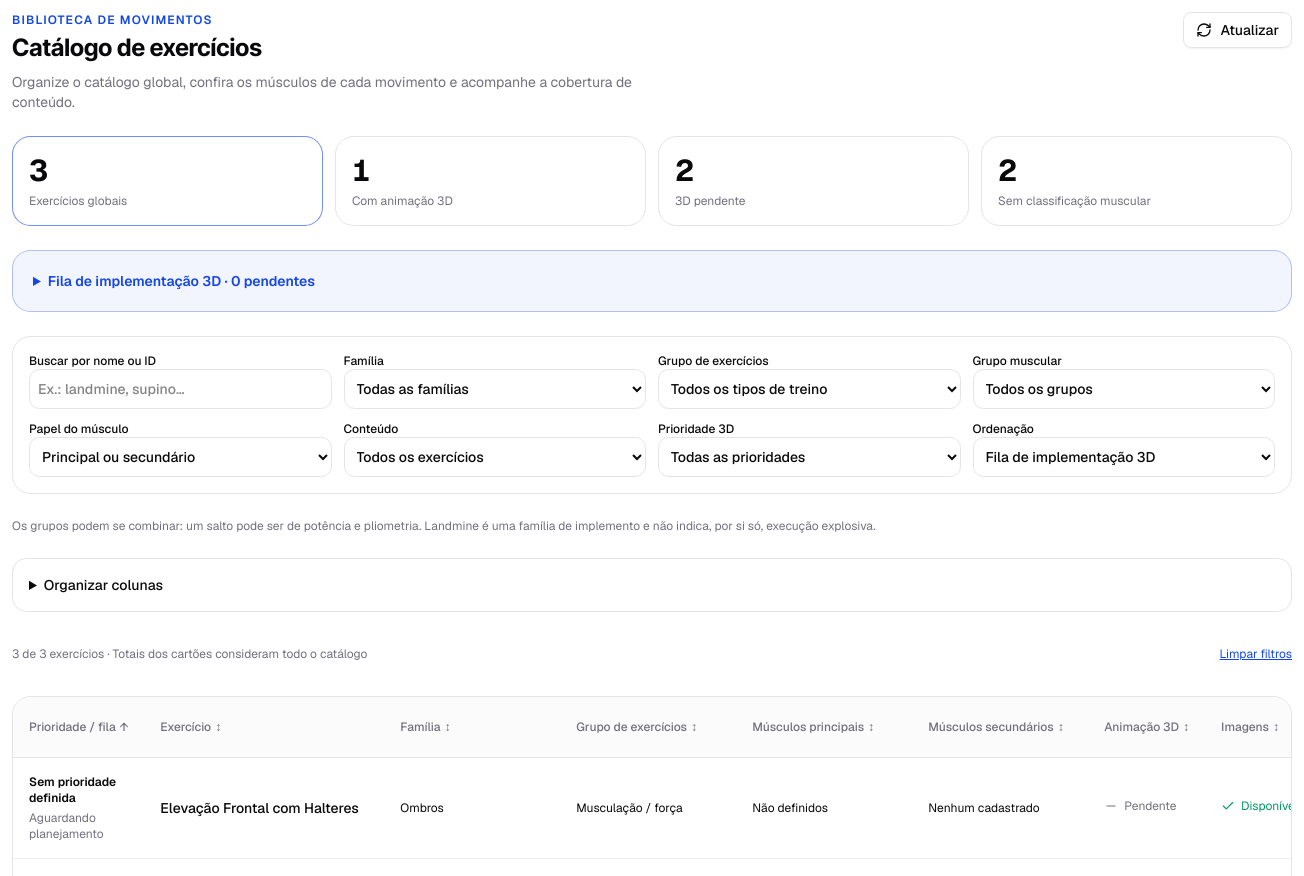
Test: Admin catalog coverage › keeps image availability separate from actual 3D support
Select "Com 3D" in the dropdown labelled "Conteúdo" at (495, 457), box [344,437,646,477]
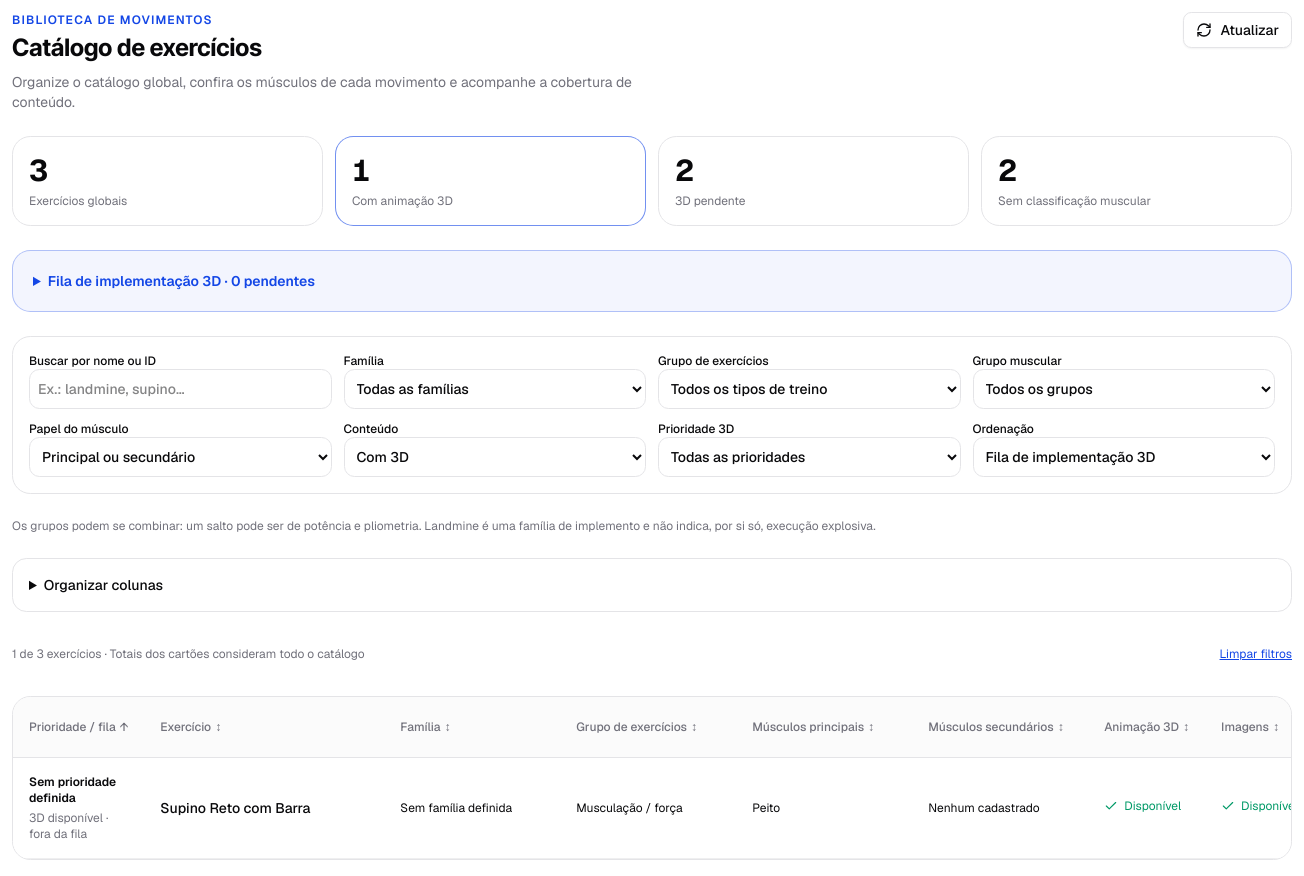
Expected: the column heading "Supino Reto com Barra" is shown, [144,758,384,858]
Expected: the column heading "Elevação Frontal com Halteres" is gone
Select "Sem qualquer visual" in the dropdown labelled "Conteúdo" at (495, 457), box [344,437,646,477]
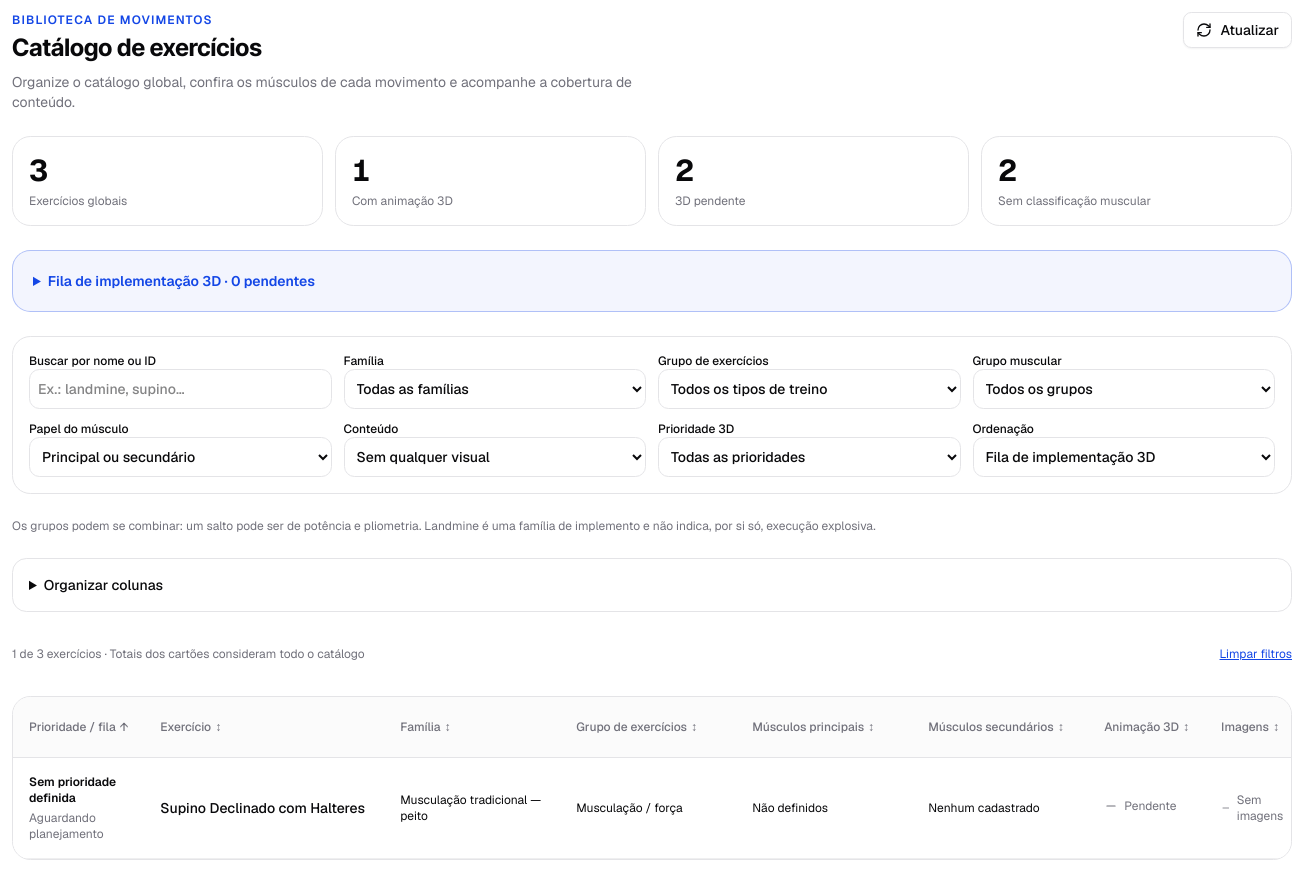
Expected: the column heading "Elevação Frontal com Halteres" is not shown
Expected: the column heading "Supino Declinado com Halteres" is shown, [144,758,384,858]
